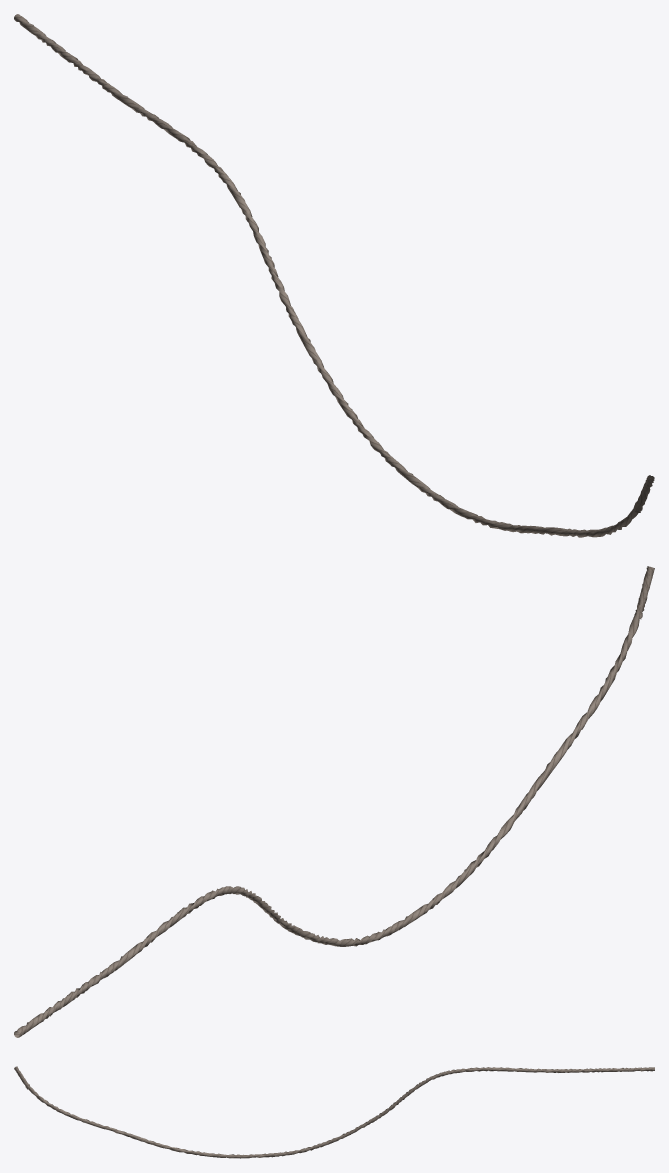
Rendered from SM_RopeSplineMesh_Splines_0.fbx.
3 renders of one model, top to bottom at view 1: azimuth 30°, elevation 25°; view 2: azimuth 150°, elevation 25°; view 3: azimuth 270°, elevation 25°, orthographic. The views are drawn at different scales.
Visible parts, largest first — view 1: SM_RopeSplineMesh_Splines_0; view 2: SM_RopeSplineMesh_Splines_0; view 3: SM_RopeSplineMesh_Splines_0.
Boxes of the visible parts, x1,y1,x2,y2 form: SM_RopeSplineMesh_Splines_0: (14,14,654,537); SM_RopeSplineMesh_Splines_0: (14,566,654,1037); SM_RopeSplineMesh_Splines_0: (14,1066,654,1158).
Bounding box in the file's own units: 2.63 × 380 × 59.95.
